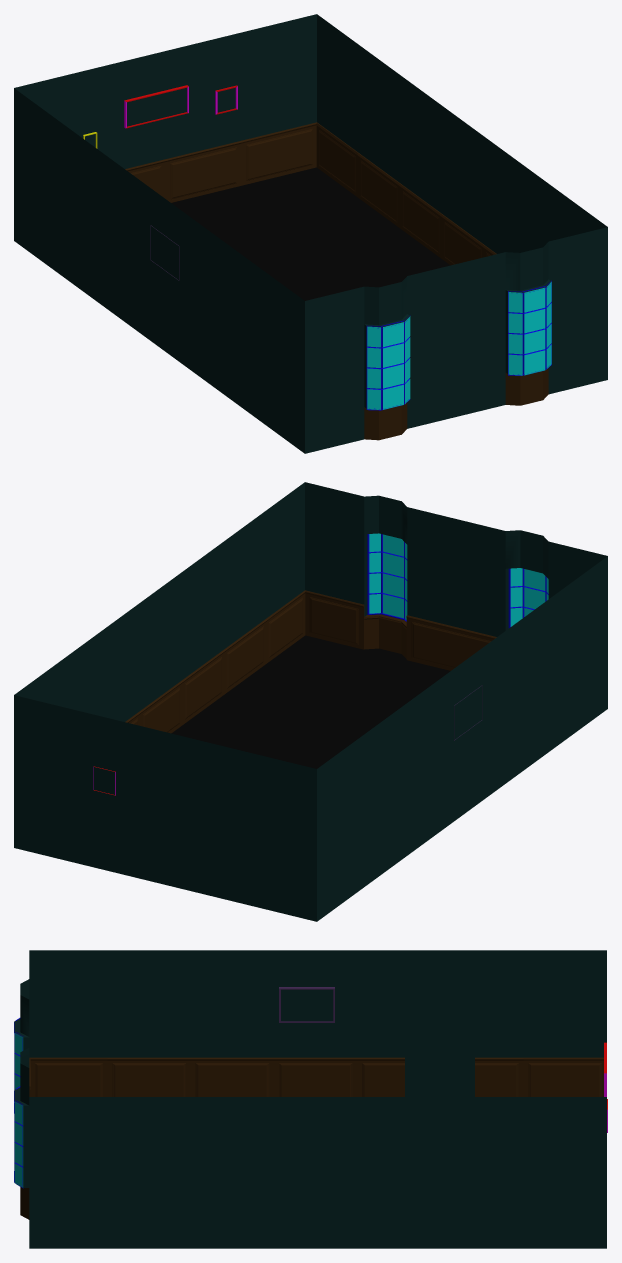
The model's file is SM_Office_001.fbx.
The picture shows the model from 3 angles, top to bottom: view 1: azimuth 30°, elevation 25°; view 2: azimuth 150°, elevation 25°; view 3: azimuth 270°, elevation 25°; orthographic projection.
Visible parts, largest first — view 1: Office_001; view 2: Office_001; view 3: Office_001.
Boxes of the visible parts, x1,y1,x2,y2 form: Office_001: (14,14,607,453); Office_001: (14,482,607,921); Office_001: (14,950,607,1248).
Size of the model in its own units: 712 by 343 by 1217.
